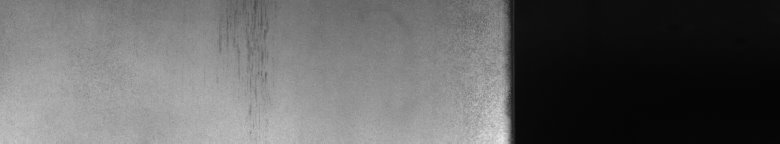ka: (221, 4, 267, 79)
